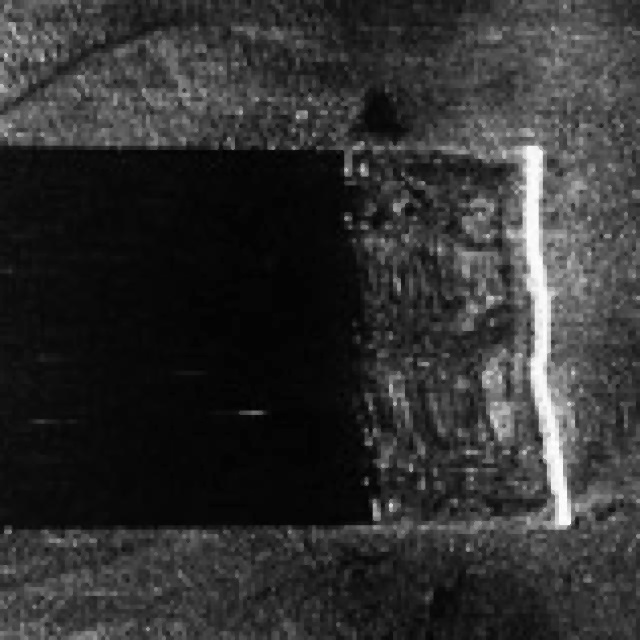Ship: (323, 122, 585, 556)
